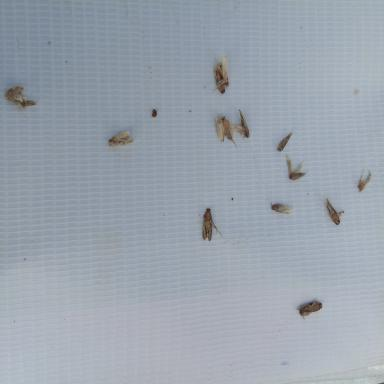pbw: (201, 207, 223, 241), (230, 108, 250, 142), (322, 190, 341, 225), (285, 153, 307, 181), (221, 115, 238, 148), (296, 300, 322, 321), (268, 195, 294, 214), (108, 131, 135, 148), (213, 66, 227, 94), (277, 130, 293, 153), (214, 115, 225, 142), (22, 100, 38, 106)
